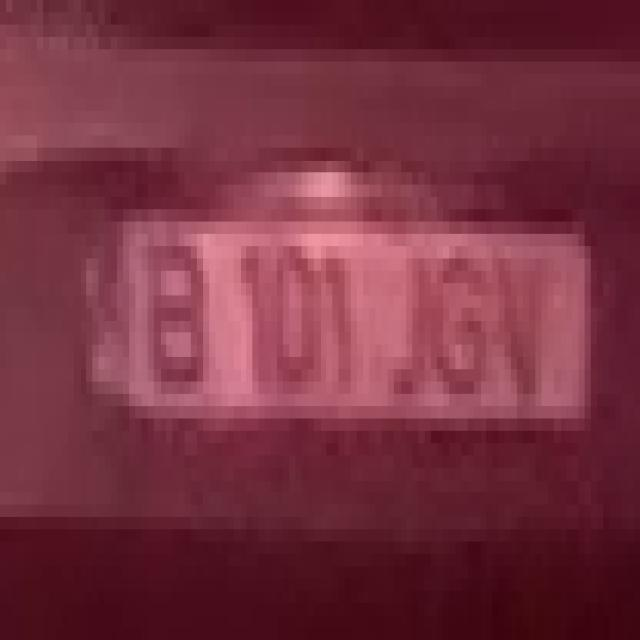Autre: (80, 211, 593, 428)
